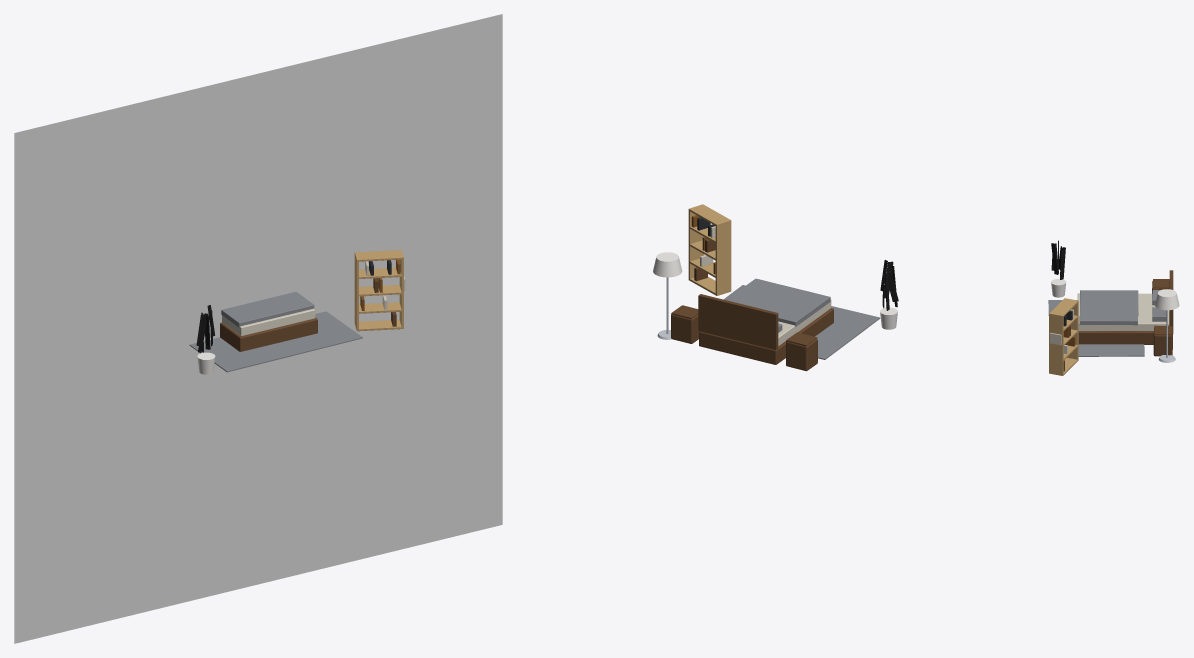
Rendered from bedroom-minimalist.glb.
3 views of the same model, side by side, from view 1: azimuth 30°, elevation 25°; view 2: azimuth 150°, elevation 25°; view 3: azimuth 270°, elevation 25° (orthographic). The views are drawn at different scales.
Parts seen in each view (by area): view 1: object 1, object 2, object 12, object 18, object 13, object 14; view 2: object 15, object 18, object 13, object 12, object 34, object 19, object 21; view 3: object 18, object 14, object 13, object 12, object 35, object 25, object 21, object 34, object 40, object 26.
Part boxes in pixels (<box>): object 1: <box>14,14,502,643</box>; object 2: <box>209,215,307,391</box>; object 12: <box>189,311,362,372</box>; object 18: <box>221,291,314,327</box>; object 13: <box>220,317,317,351</box>; object 14: <box>222,308,315,336</box>; object 15: <box>698,294,778,349</box>; object 18: <box>726,278,830,326</box>; object 13: <box>699,308,833,364</box>; object 12: <box>723,285,880,359</box>; object 34: <box>715,220,731,295</box>; object 19: <box>786,339,817,371</box>; object 21: <box>671,314,698,343</box>; object 18: <box>1079,290,1138,325</box>; object 14: <box>1077,293,1169,331</box>; object 13: <box>1078,322,1173,344</box>; object 12: <box>1048,300,1144,356</box>; object 35: <box>1049,313,1063,375</box>; object 25: <box>1155,289,1179,310</box>; object 21: <box>1153,327,1172,356</box>; object 34: <box>1064,298,1078,360</box>; object 40: <box>1050,298,1077,316</box>; object 26: <box>1051,279,1066,297</box>.
Bounding box in the file's own units: 10 × 10 × 2.77.
